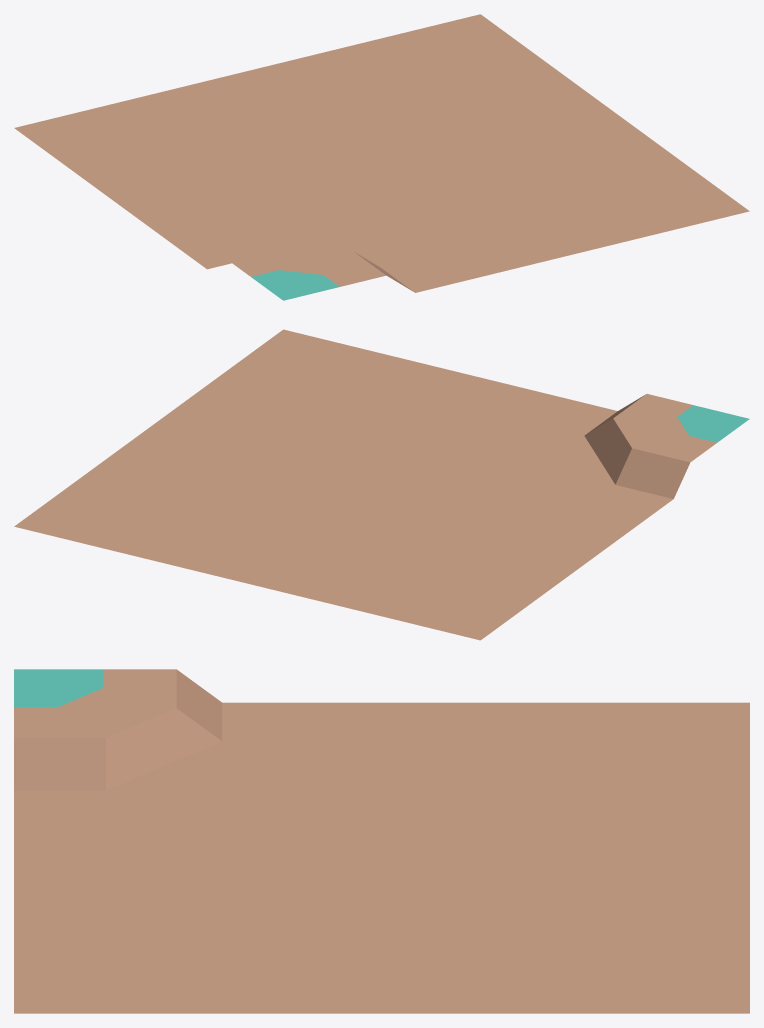
The model's file is ground_pathCornerSmall.glb.
3 views of the same model, one above another, from view 1: azimuth 30°, elevation 25°; view 2: azimuth 150°, elevation 25°; view 3: azimuth 270°, elevation 25° (orthographic). The views are drawn at different scales.
Parts seen in each view (by area): view 1: ground_pathCornerSmall; view 2: ground_pathCornerSmall; view 3: ground_pathCornerSmall.
Part boxes in pixels (x1,y1,x2,y2): ground_pathCornerSmall: (14,14,749,300); ground_pathCornerSmall: (14,329,749,640); ground_pathCornerSmall: (14,669,749,1013).
Bounding box in the file's own units: 1 × 0.05 × 1.
